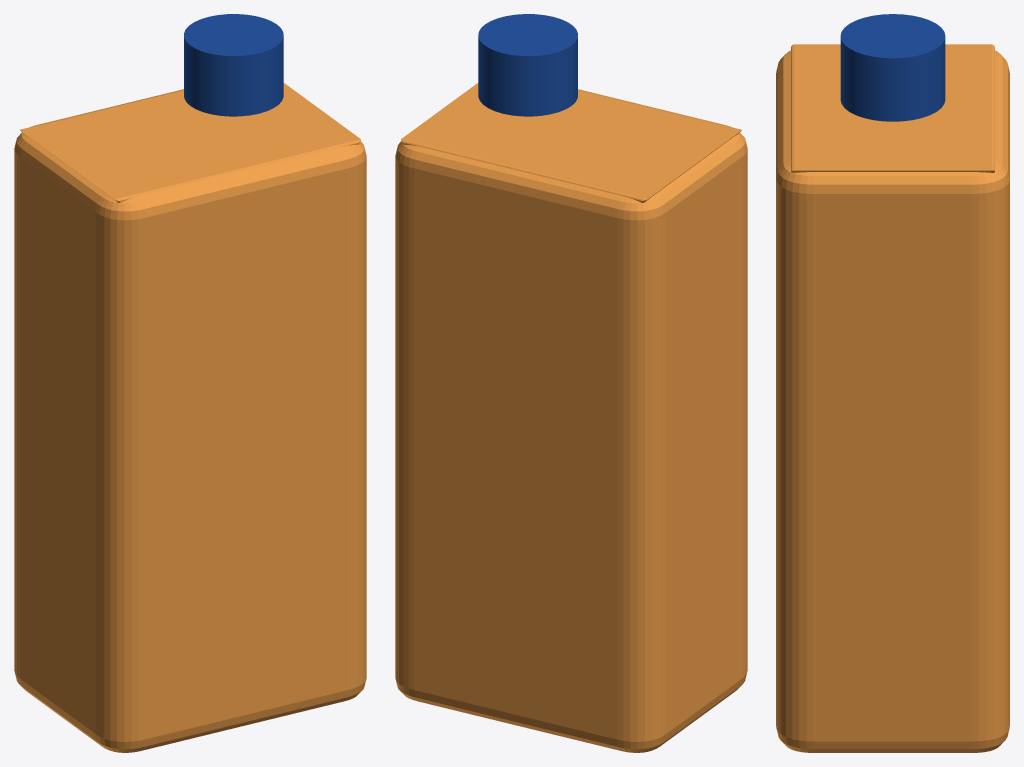
File: bibite-estathe-pesca.glb
3 views of the same model, side by side, from view 1: azimuth 30°, elevation 25°; view 2: azimuth 150°, elevation 25°; view 3: azimuth 270°, elevation 25° (orthographic). The views are drawn at different scales.
Size of the model in its own units: 0.0551 by 0.128 by 0.0401.
